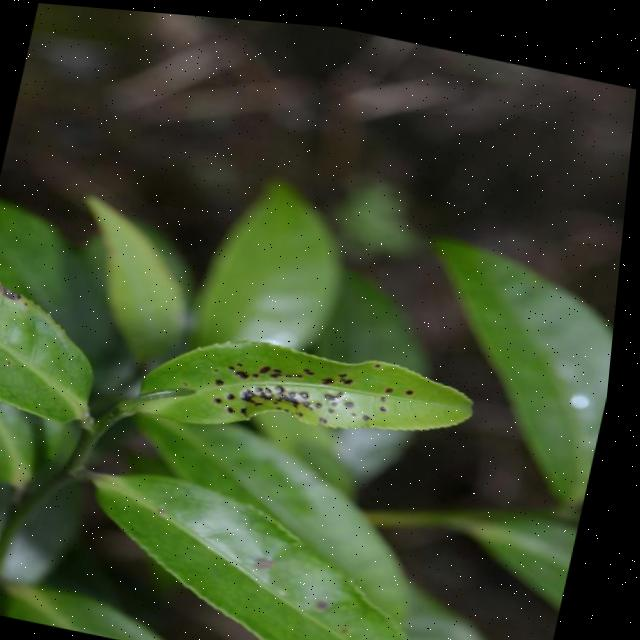Tea red scab: (212, 335, 429, 448)
